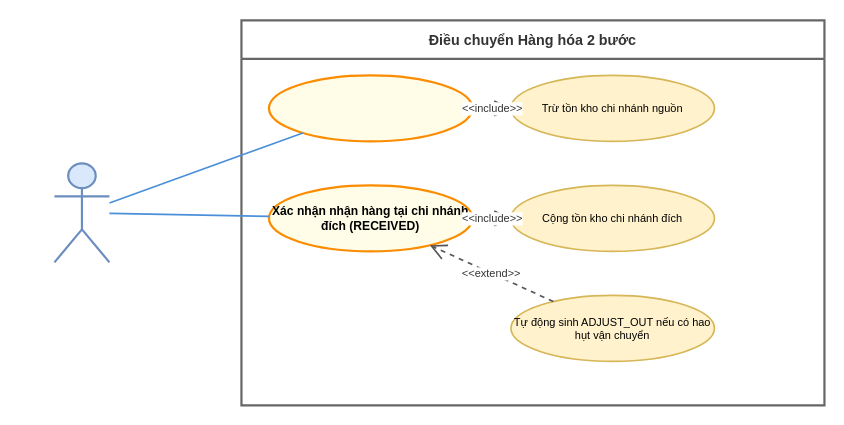
Some shapes in this 844 by 425 pixel diagram are drawn without their labels. The shapes that lost their labels are listed below. From the top down, each one's box as (x1, y1, x2, y2) in pixels, then its label:
(267, 74, 473, 142): Phê duyệt phiếu TRANSFER
(53, 162, 110, 263): Quản trị viên (ADMIN)
